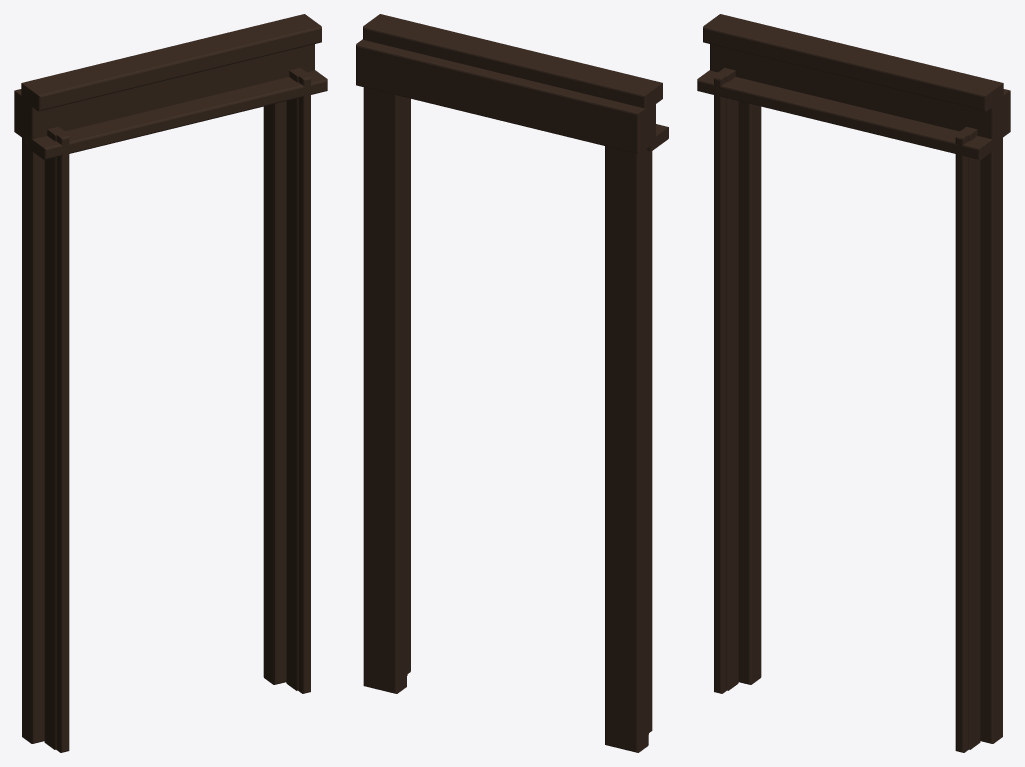
File: molded-door-frame.glb
3 renders of one model, left to right at view 1: azimuth 30°, elevation 25°; view 2: azimuth 150°, elevation 25°; view 3: azimuth 330°, elevation 25°, orthographic.
Parts seen in each view (by area): view 1: molded-door-frame; view 2: molded-door-frame; view 3: molded-door-frame.
Boxes of the visible parts, bbox=[...] form: molded-door-frame: bbox=[14, 14, 327, 752]; molded-door-frame: bbox=[356, 14, 668, 752]; molded-door-frame: bbox=[697, 14, 1010, 752].
Bounding box in the file's own units: 1.41 × 3.12 × 0.27.
